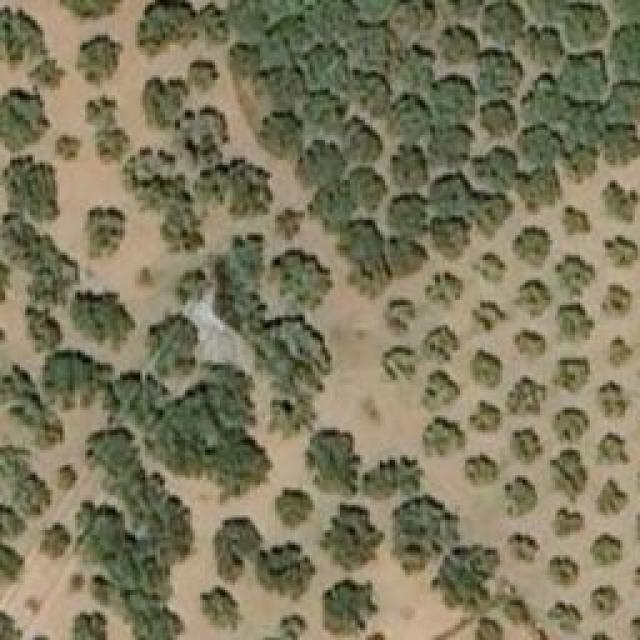Tree: (0, 215, 78, 290), (253, 318, 330, 392), (193, 158, 276, 221), (268, 245, 328, 310), (440, 545, 498, 610), (393, 498, 446, 568), (78, 292, 138, 350), (323, 505, 383, 563), (308, 430, 361, 493), (125, 147, 182, 205), (0, 88, 48, 153), (257, 540, 315, 593), (215, 518, 263, 581), (148, 315, 198, 375), (45, 353, 105, 403), (110, 373, 165, 426), (135, 2, 195, 50), (322, 580, 370, 640), (10, 155, 55, 215), (75, 33, 123, 88), (0, 8, 48, 61), (157, 198, 203, 253), (140, 75, 188, 125), (75, 500, 120, 553), (265, 398, 319, 442), (260, 65, 308, 113), (180, 110, 228, 158), (350, 23, 400, 68), (85, 205, 125, 260), (260, 110, 303, 158), (550, 450, 588, 503), (368, 460, 418, 500), (420, 370, 463, 416), (418, 415, 465, 457), (200, 585, 243, 630), (478, 53, 521, 98), (560, 105, 605, 148), (57, 0, 125, 28), (505, 375, 548, 418), (345, 223, 388, 266), (555, 253, 598, 296), (600, 180, 640, 225), (513, 228, 553, 273), (308, 93, 348, 138), (350, 75, 390, 118), (343, 120, 383, 163), (343, 168, 386, 208), (433, 78, 473, 121), (428, 218, 471, 258), (0, 360, 38, 405), (310, 0, 353, 38), (265, 20, 308, 58), (390, 143, 428, 186), (520, 125, 563, 163), (602, 125, 640, 168), (388, 98, 428, 138), (478, 148, 518, 188), (565, 55, 605, 95), (555, 303, 595, 343), (173, 268, 217, 304), (225, 0, 265, 38), (298, 147, 338, 185), (430, 125, 470, 163), (25, 303, 60, 346), (612, 23, 640, 76), (275, 490, 313, 528), (552, 357, 590, 395), (522, 170, 560, 208), (565, 5, 603, 43), (392, 0, 430, 38), (512, 280, 550, 318), (470, 348, 503, 391), (505, 475, 538, 518), (438, 28, 473, 68), (523, 80, 558, 120), (473, 295, 508, 333), (552, 408, 590, 443), (308, 45, 343, 83), (595, 380, 628, 420), (470, 253, 508, 286), (430, 178, 468, 211), (480, 97, 513, 135), (525, 27, 558, 65), (388, 200, 423, 235), (0, 443, 35, 478), (398, 50, 428, 90), (68, 610, 108, 640), (513, 330, 548, 363), (510, 428, 543, 463), (590, 533, 623, 568), (548, 603, 583, 636), (313, 190, 346, 225), (598, 477, 628, 515), (40, 522, 70, 560), (478, 195, 508, 233), (487, 3, 515, 43), (612, 83, 640, 123), (605, 235, 638, 268), (470, 400, 503, 433), (545, 555, 578, 588), (225, 45, 258, 78), (390, 243, 423, 276), (87, 130, 125, 158), (275, 208, 305, 243), (590, 583, 620, 618), (200, 8, 225, 48), (428, 273, 458, 306), (383, 300, 413, 333), (425, 328, 455, 361), (3, 543, 26, 586), (465, 455, 498, 483), (563, 205, 593, 235), (603, 285, 633, 315), (598, 433, 628, 463), (553, 508, 583, 538), (510, 533, 540, 563), (385, 350, 415, 378), (0, 502, 22, 539), (277, 610, 305, 638), (608, 335, 631, 368), (190, 60, 215, 90), (55, 135, 83, 160), (527, 0, 565, 18), (610, 0, 640, 22), (353, 0, 388, 18), (90, 98, 115, 123), (475, 617, 502, 640), (0, 612, 22, 639), (58, 465, 78, 493), (67, 570, 85, 595), (447, 0, 475, 15)
